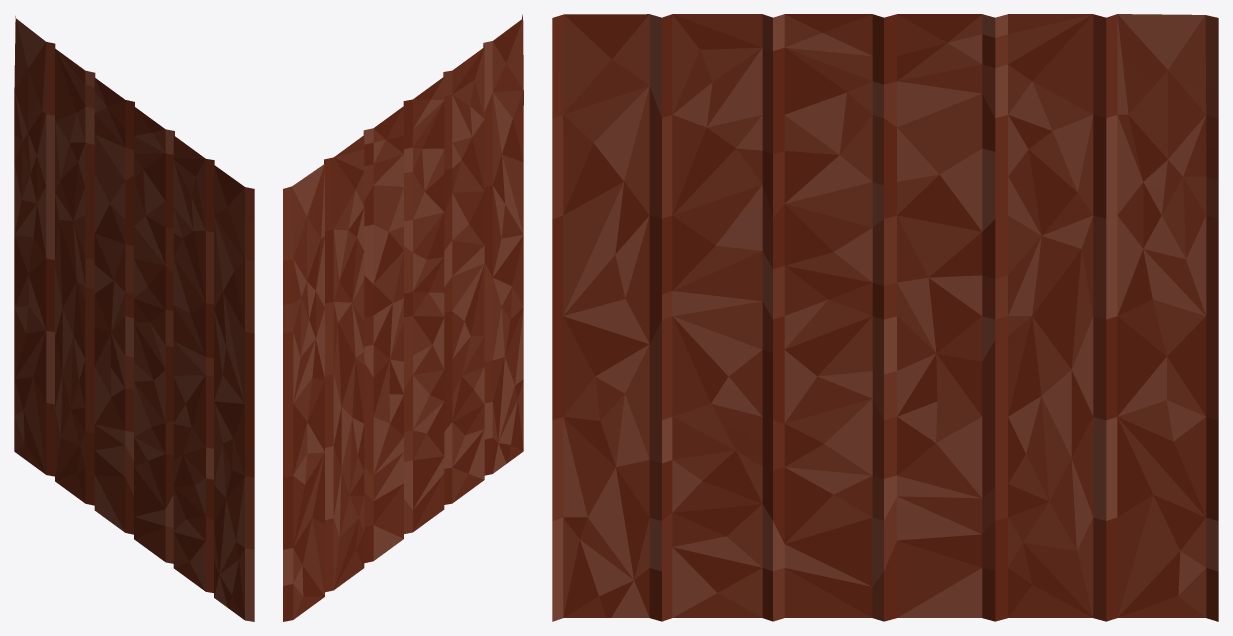
The model's file is Wall_B.fbx.
3 views of the same model, side by side, from view 1: azimuth 30°, elevation 25°; view 2: azimuth 150°, elevation 25°; view 3: azimuth 270°, elevation 25° (orthographic). The views are drawn at different scales.
Visible parts, largest first — view 1: polySurface3667; view 2: polySurface3667; view 3: polySurface3667.
Part boxes in pixels (<box>): polySurface3667: <box>14,16,254,621</box>; polySurface3667: <box>283,14,523,621</box>; polySurface3667: <box>552,14,1218,621</box>.
Size of the model in its own units: 5.46 by 400 by 400.
